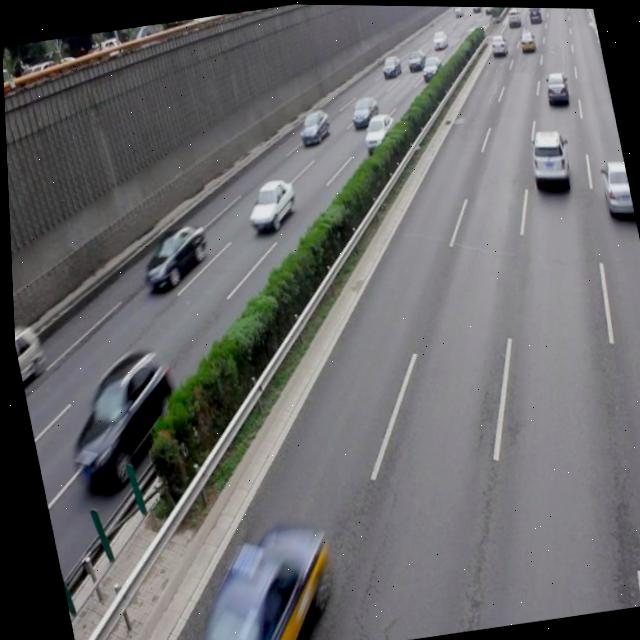car: (50, 342, 188, 496), (178, 518, 338, 640), (133, 220, 213, 292), (240, 176, 300, 233), (522, 124, 569, 185), (594, 153, 634, 222), (357, 109, 396, 151), (296, 107, 332, 146)
